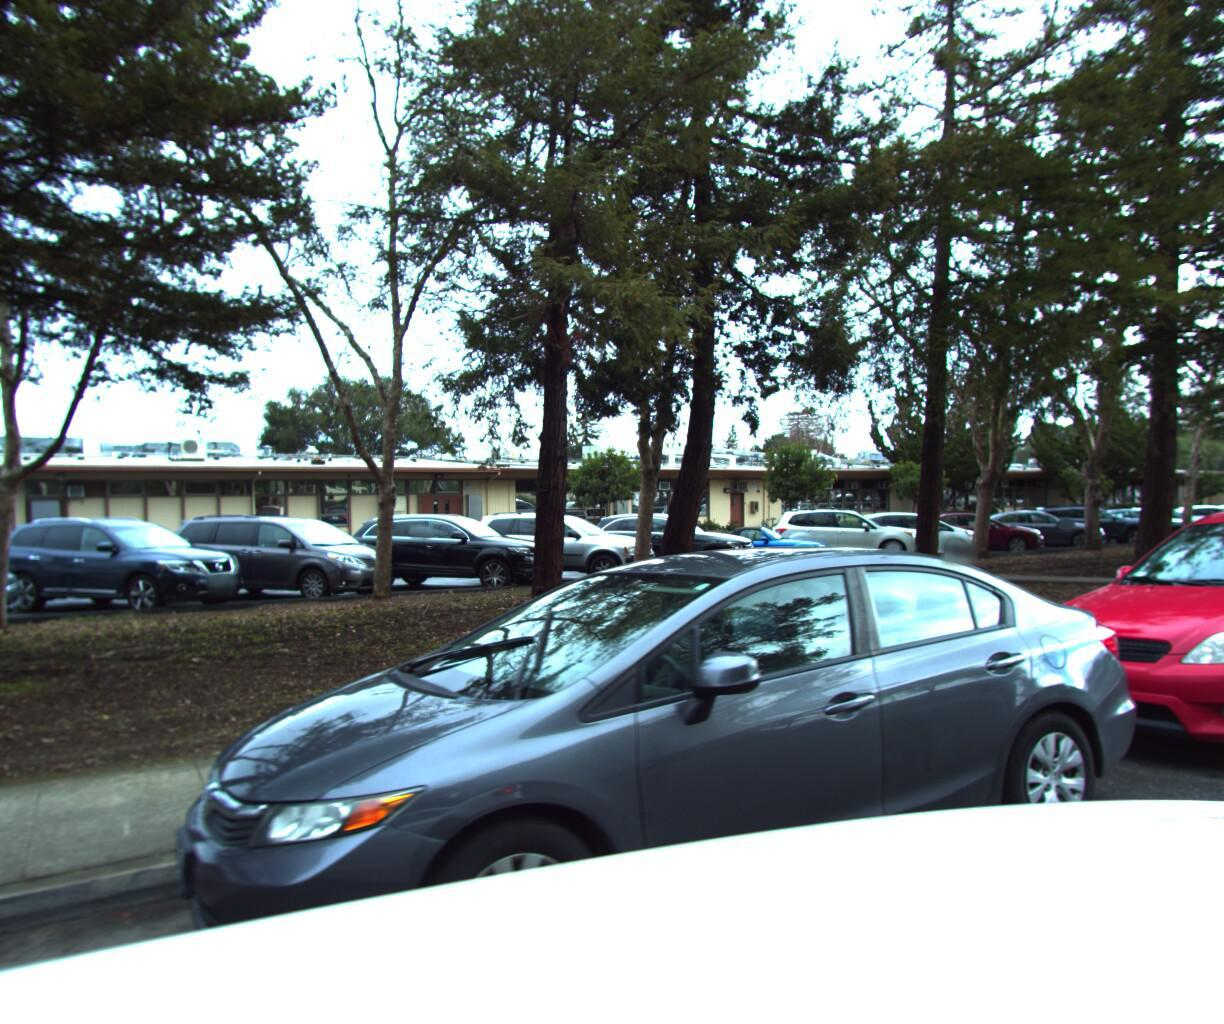car: (150, 519, 1194, 1024), (981, 487, 1224, 809)
